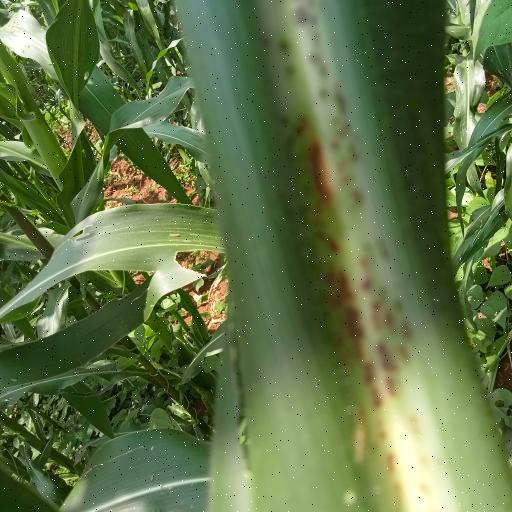Corn_Brown_Spots: (181, 7, 512, 512)
